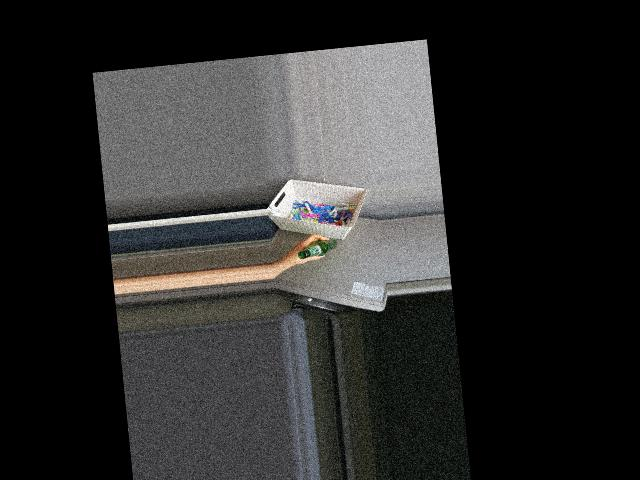beer: (296, 236, 338, 259)
